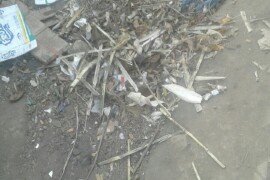trash: (62, 18, 234, 132), (1, 3, 38, 59)
